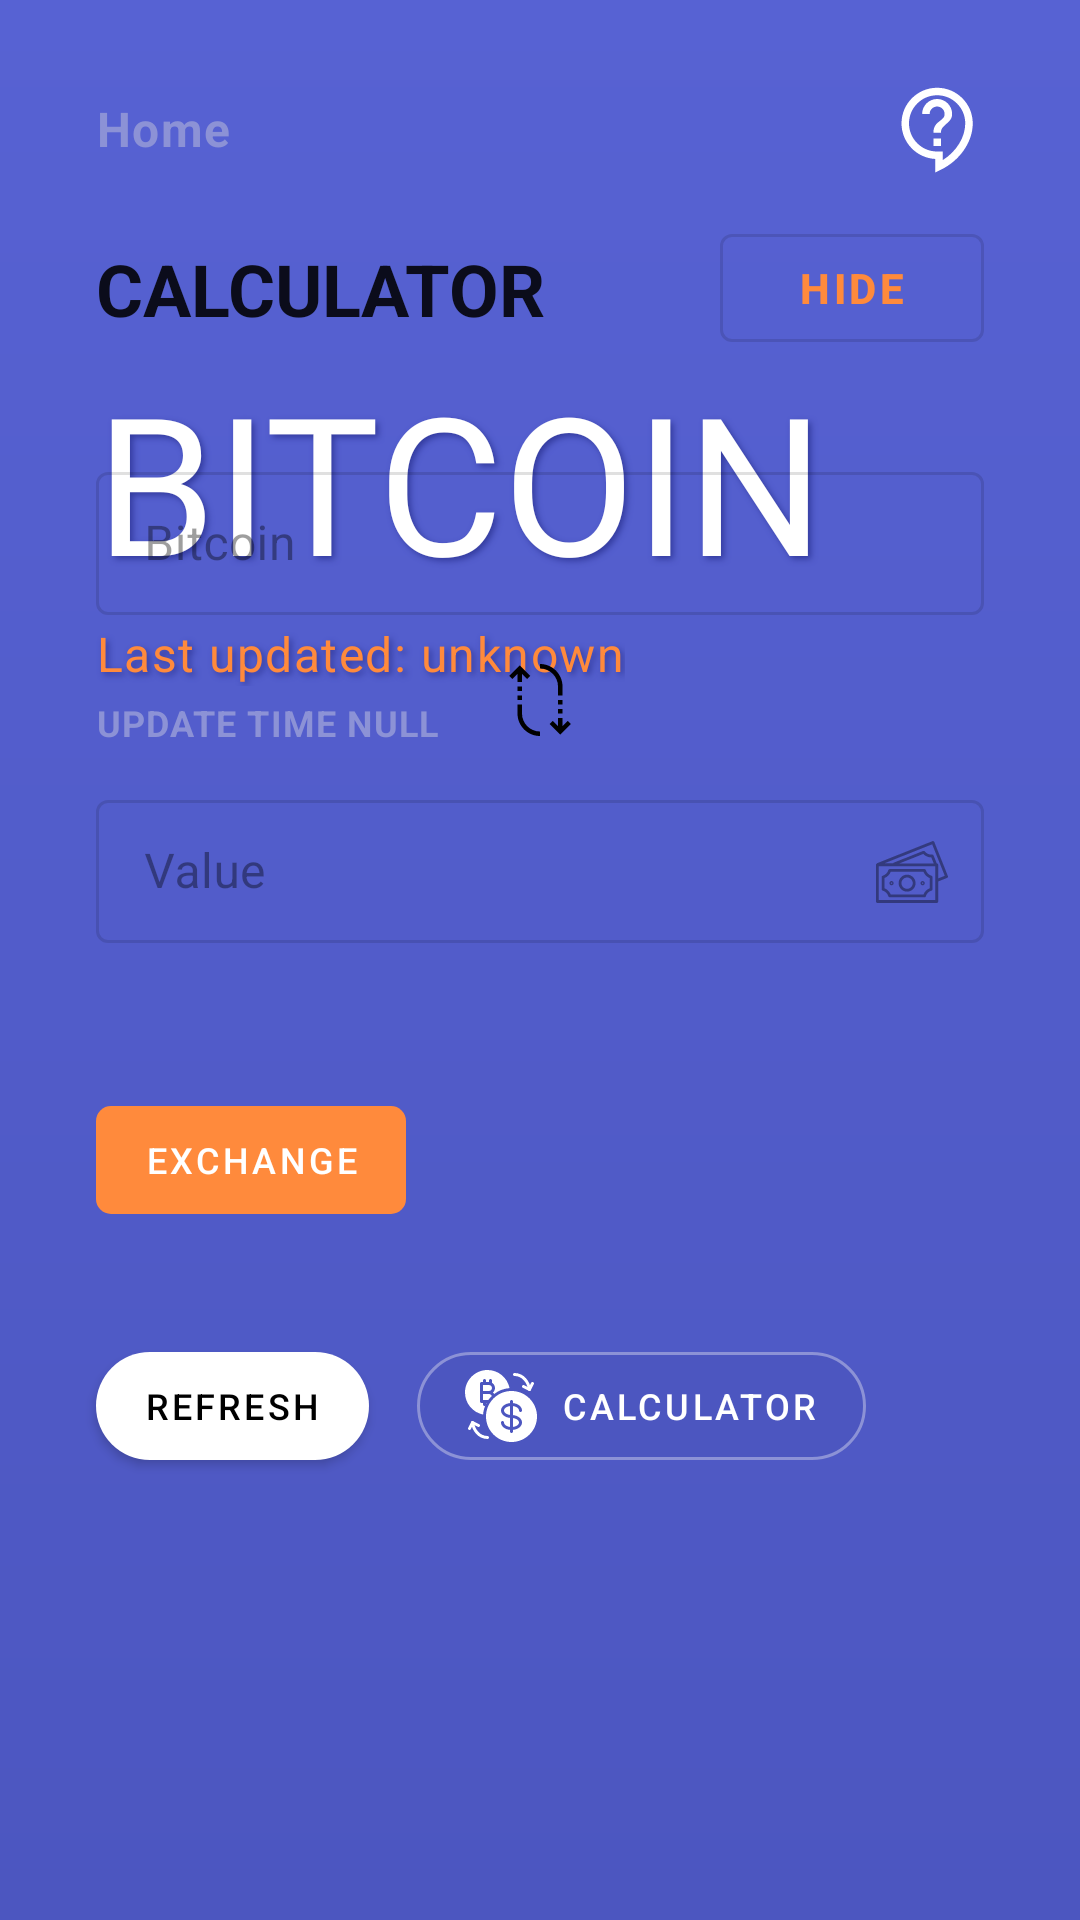

Icon click points for this 1080 × 1920 phone screenshot, format (x,y):
swap: (540,700)
